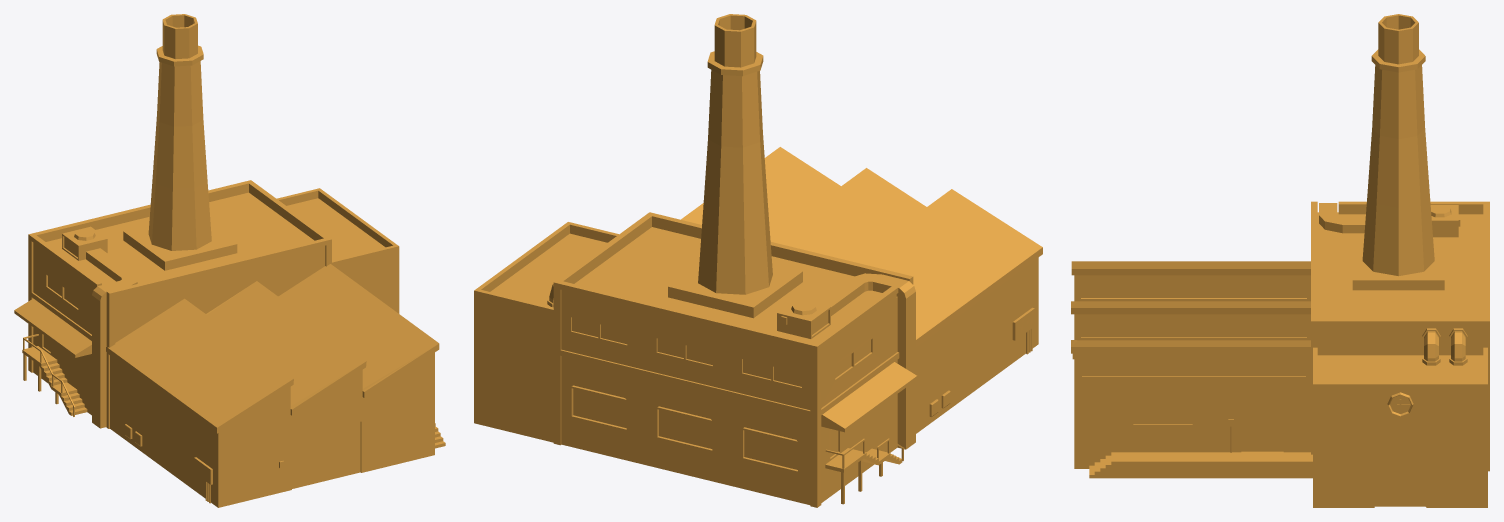
The model's file is industry-factory-old.fbx.
The picture shows the model from 3 angles, left to right: view 1: azimuth 30°, elevation 25°; view 2: azimuth 150°, elevation 25°; view 3: azimuth 270°, elevation 25°; orthographic projection. The views are drawn at different scales.
Visible parts, largest first — view 1: industry-factory-old; view 2: industry-factory-old; view 3: industry-factory-old.
Boxes of the visible parts, box(x1,y1,x2,y2) form: industry-factory-old: box(14, 14, 445, 507); industry-factory-old: box(474, 14, 1042, 507); industry-factory-old: box(1071, 14, 1489, 507).
Size of the model in its own units: 21.55 by 23.3 by 22.75.
